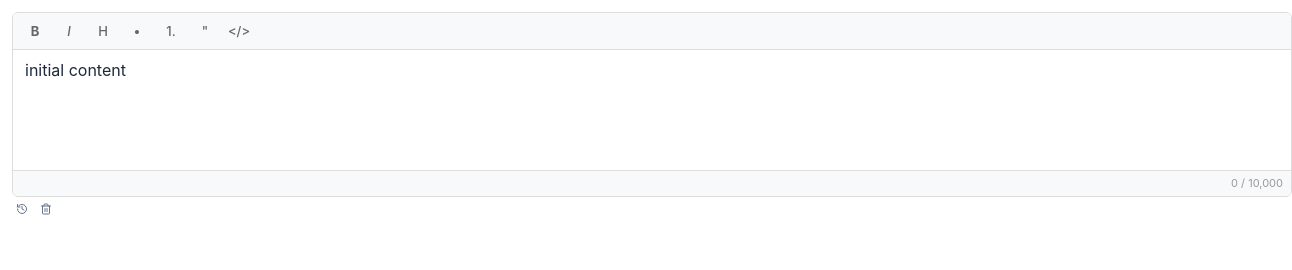
Test: InlineNoteEditor — delete (NY10–NY15) › NY15: delete API failure shows error, note editor remains
Click the button with test id "delete-note-btn". click: (46, 208)
box: x1=36 y1=200 x2=56 y2=216
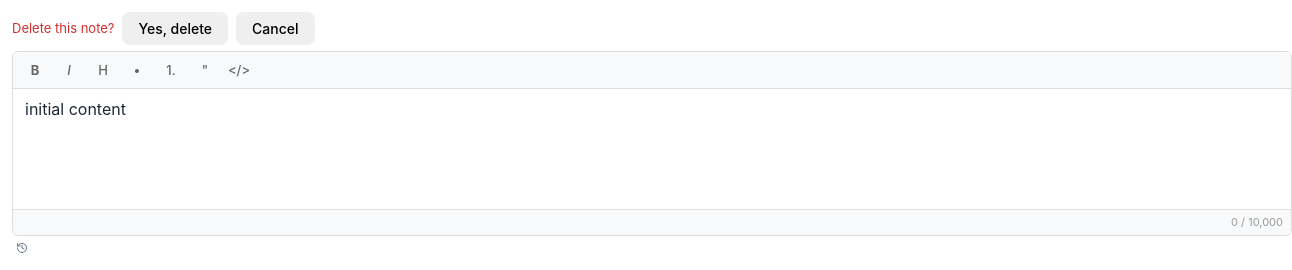
Click the button with test id "delete-confirm-yes". click: (175, 28)
box: x1=122 y1=12 x2=228 y2=45
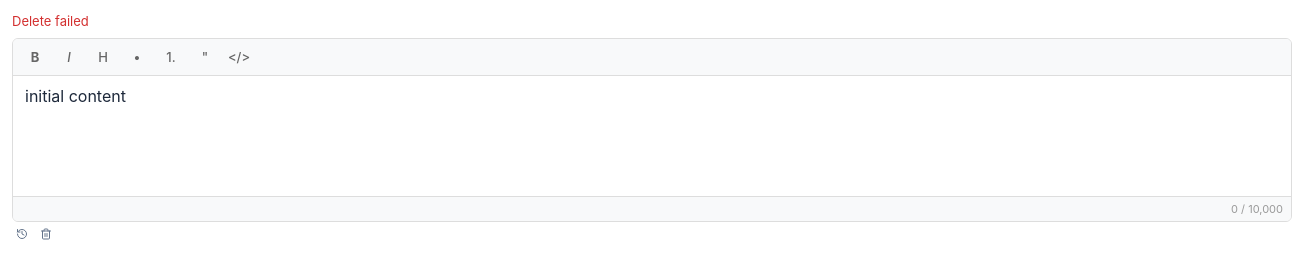
Check: the text "Delete failed" is shown, box x1=12 y1=13 x2=89 y2=29
